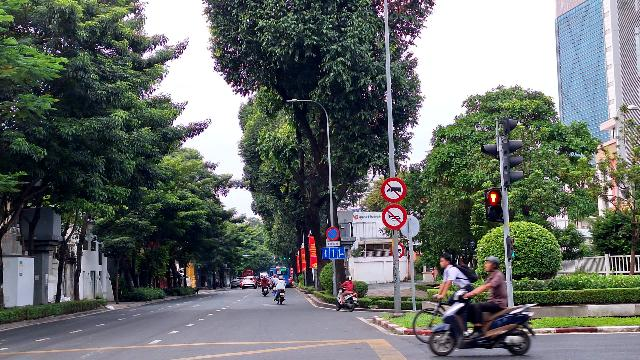cam-bop-coi: (382, 203, 407, 230)
cam-do-xe: (326, 226, 340, 241)
